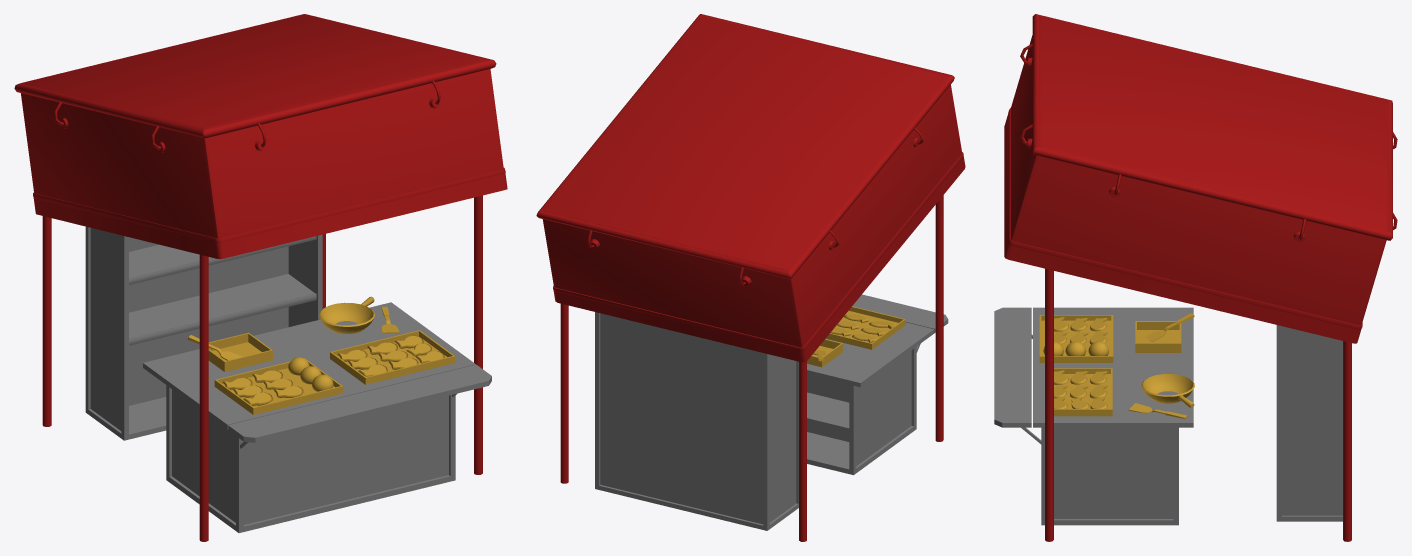
The model's file is SM_yatai_taiyaki.fbx.
3 views of the same model, side by side, from view 1: azimuth 30°, elevation 25°; view 2: azimuth 150°, elevation 25°; view 3: azimuth 270°, elevation 25° (orthographic). The views are drawn at different scales.
Parts seen in each view (by area): view 1: Box486; view 2: Box486; view 3: Box486.
Boxes of the visible parts, left/top/right/bottom form: Box486: left=14, top=14, right=507, bottom=541; Box486: left=536, top=14, right=965, bottom=541; Box486: left=994, top=14, right=1397, bottom=541.
Size of the model in its own units: 111 by 143 by 132.
